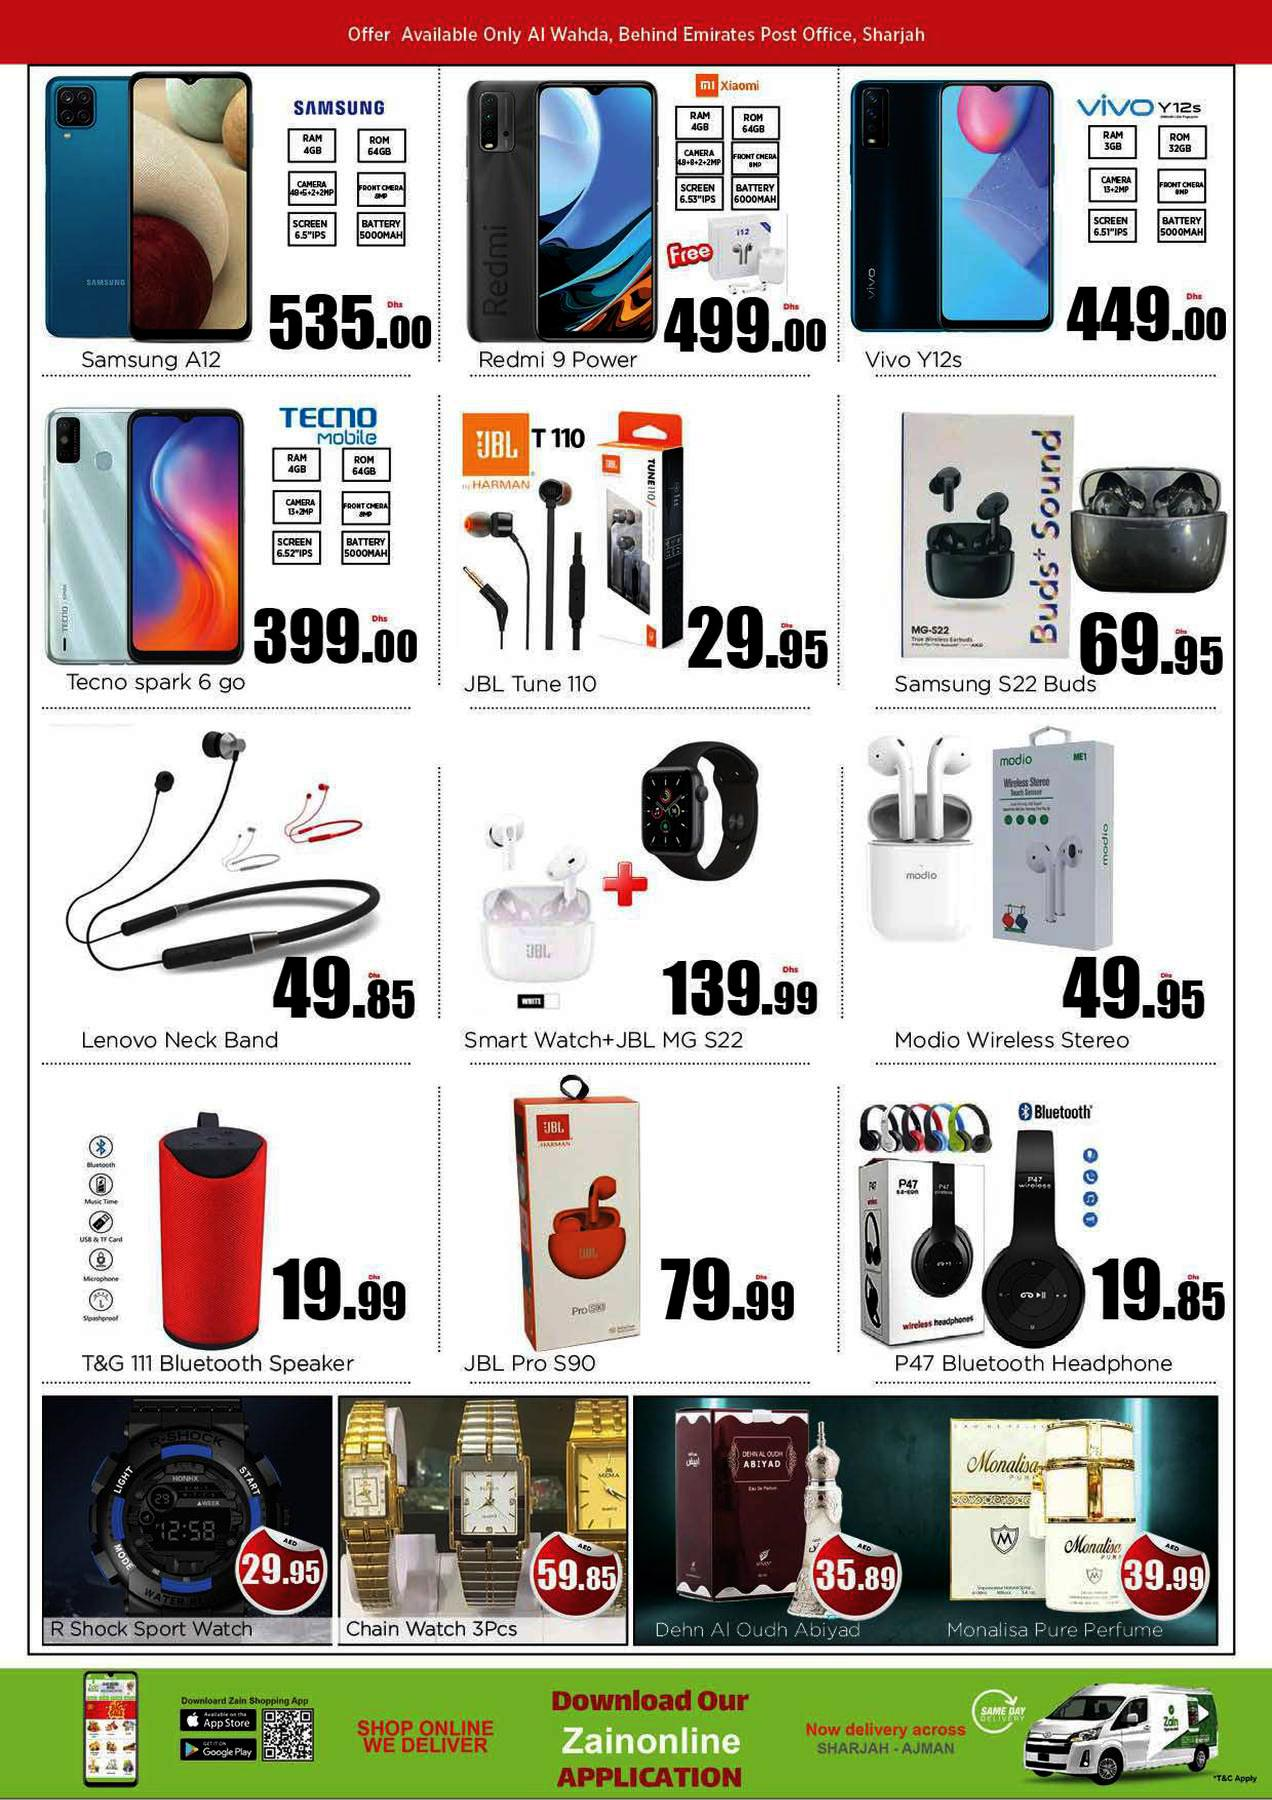text: (73, 1344, 366, 1383), (888, 1344, 1178, 1382), (456, 1022, 756, 1058), (888, 1021, 1137, 1061), (888, 665, 1107, 705), (61, 662, 256, 703), (74, 1022, 288, 1060), (940, 1617, 1176, 1646), (648, 1616, 873, 1644), (472, 344, 646, 380), (43, 1616, 264, 1643), (453, 1344, 608, 1383), (340, 1611, 527, 1643), (458, 666, 607, 705), (74, 345, 234, 378), (856, 343, 973, 378)
